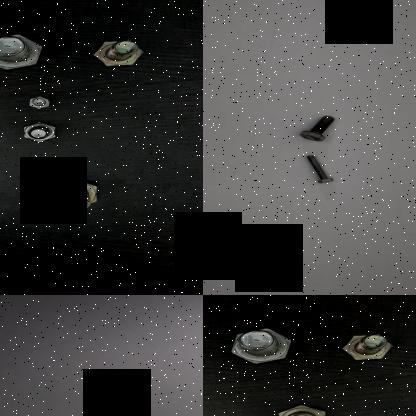Bolts: (224, 327, 300, 365), (35, 174, 107, 214), (84, 31, 150, 67), (0, 28, 47, 70), (340, 330, 398, 364), (298, 112, 340, 144), (18, 118, 60, 146), (304, 152, 336, 186), (269, 402, 335, 416), (22, 90, 54, 110)
